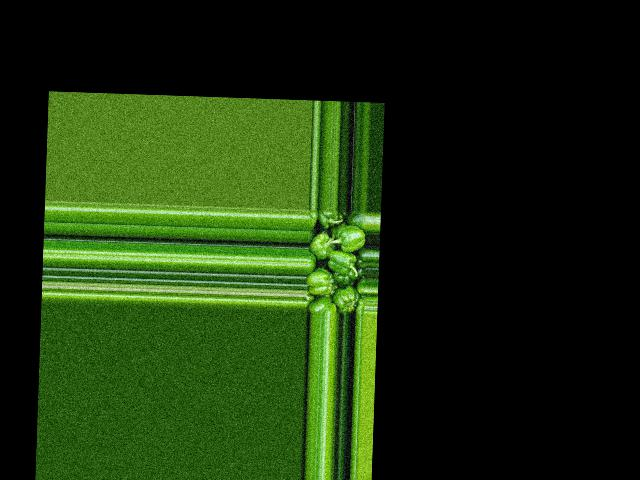bell_pepper: (347, 210, 367, 234)
